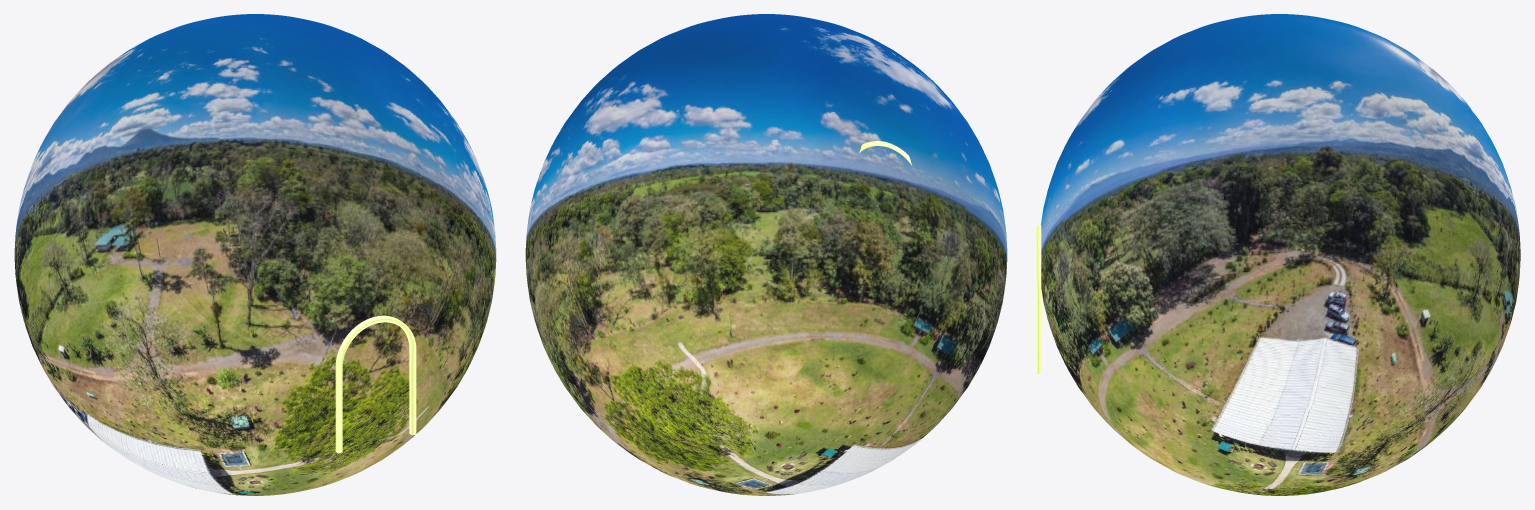
The model's file is dragonfly-portal.glb.
3 views of the same model, side by side, from view 1: azimuth 30°, elevation 25°; view 2: azimuth 150°, elevation 25°; view 3: azimuth 270°, elevation 25° (orthographic).
Parts seen in each view (by area): view 1: Portal; view 2: Portal; view 3: Portal.
Boxes of the visible parts, box(x1,y1,x2,y2) form: Portal: box(14, 14, 496, 495); Portal: box(525, 14, 1007, 495); Portal: box(1036, 14, 1520, 495).
Size of the model in its own units: 7 by 7 by 7.04.
2 materials, 1 textured.
